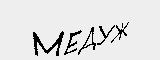Д: (78, 24, 97, 57)
Е: (64, 28, 81, 56)
Ж: (112, 20, 131, 44)
М: (32, 28, 65, 58)
У: (97, 24, 113, 47)
